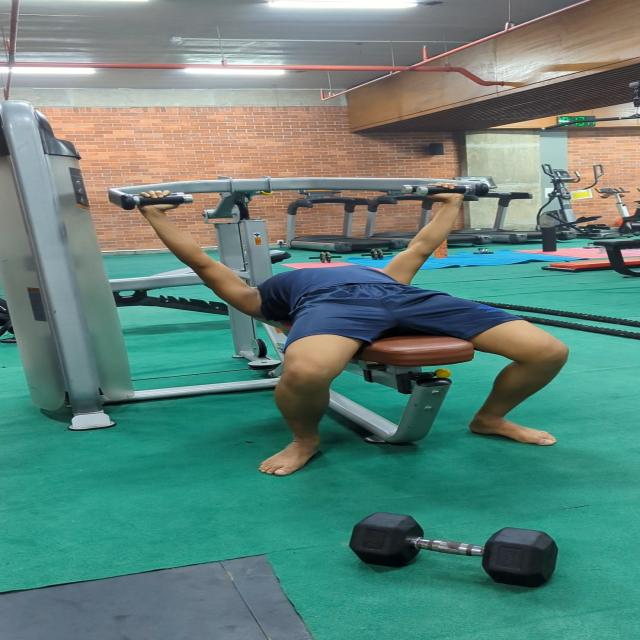Normal_BrenchPress: (124, 178, 640, 486)
